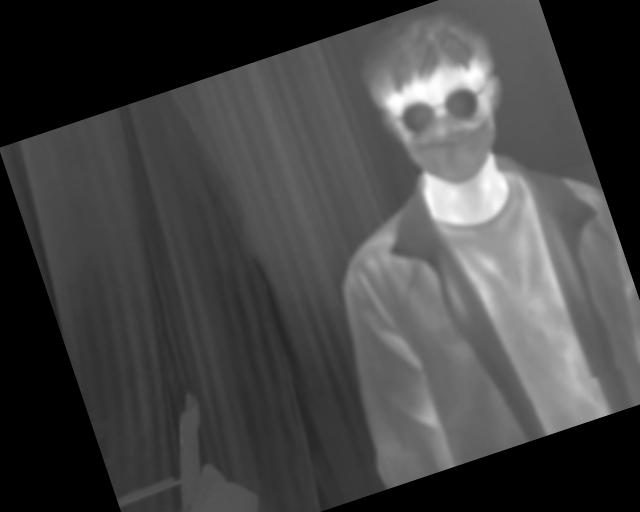face: (352, 1, 527, 201)
